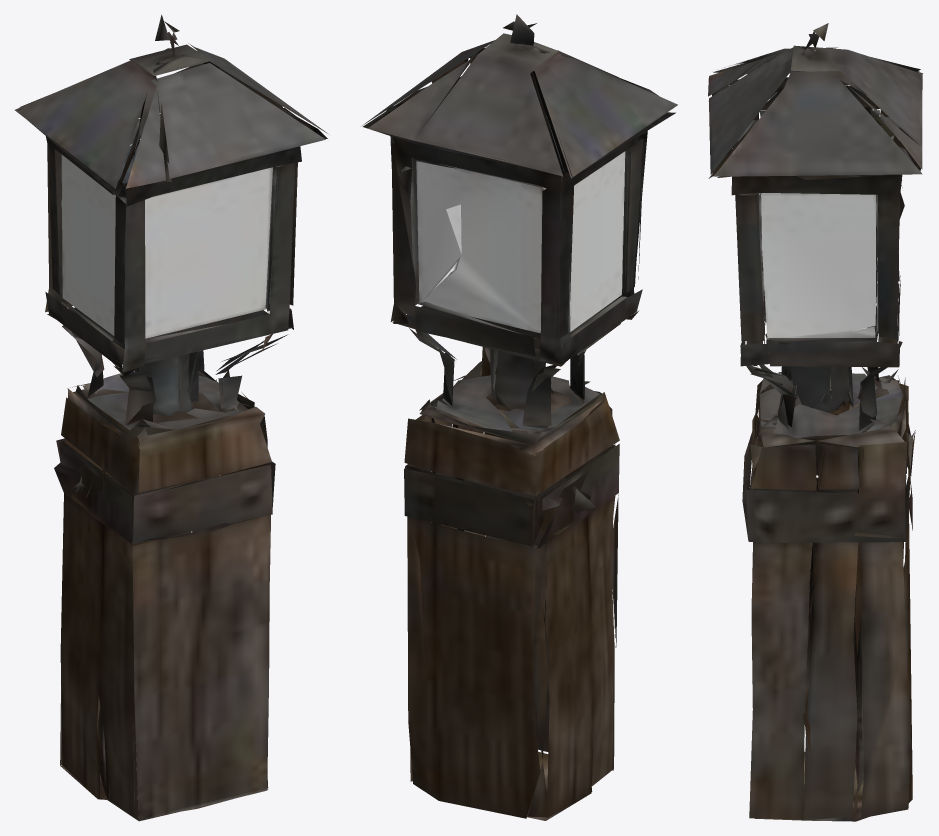
The model's file is wald_laterne.glb.
3 views of the same model, side by side, from view 1: azimuth 30°, elevation 25°; view 2: azimuth 150°, elevation 25°; view 3: azimuth 270°, elevation 25° (orthographic).
Visible parts, largest first — view 1: Prop; view 2: Prop; view 3: Prop.
Boxes of the visible parts, <box> form: Prop: <box>15,14,327,821</box>; Prop: <box>362,14,677,820</box>; Prop: <box>708,23,922,821</box>.
Size of the model in its own units: 0.2955 by 1.01 by 0.2563.
Materials: 1 (1 with a texture image).
